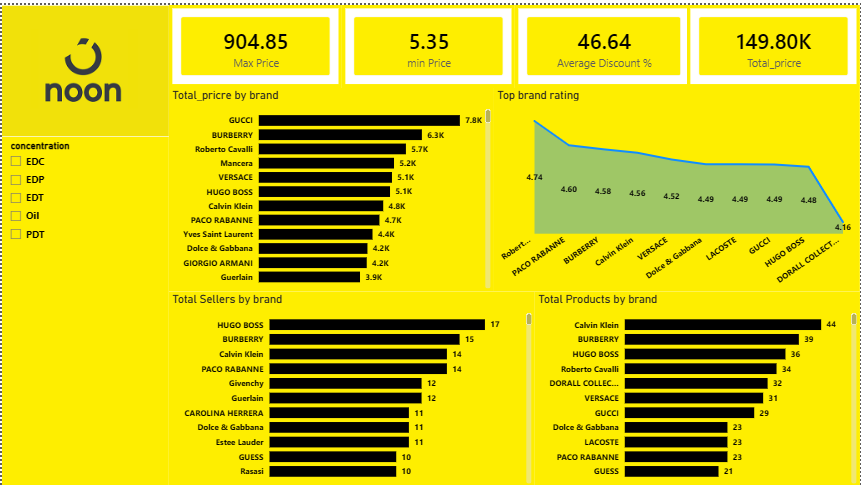

The page's visual inventory and layout, read from the dashboard file:
{"tool":"powerbi","page":{"name":"brands","canvas":[1280,720],"ordinal":1},"visuals":[{"type":"image","box":[0,0,249.3,197],"z":0},{"type":"cardVisual","fields":{"Data":["noon_perfumes_clean.Max Price"]},"box":[249.3,0,258.2,123.9],"z":1000},{"type":"cardVisual","fields":{"Data":["noon_perfumes_clean.min Price"]},"box":[507.5,0,258.2,123.9],"z":2000},{"type":"cardVisual","fields":{"Data":["noon_perfumes_clean.Average Discount %"]},"box":[765.7,0,265.7,123.9],"z":3000},{"type":"cardVisual","fields":{"Data":["noon_perfumes_clean.Total_pricre"]},"box":[1022.4,0,258.2,123.9],"z":4000},{"type":"clusteredBarChart","fields":{"Category":["noon_perfumes_clean.brand"],"Y":["noon_perfumes_clean.Total_pricre"]},"box":[249.3,123.9,485.1,304.5],"z":5000},{"type":"stackedAreaChart","title":"Top brand rating","fields":{"Category":["noon_perfumes_clean.brand"],"Y":["noon_perfumes_clean.Average Rating"]},"box":[734.3,123.9,546.3,304.5],"z":6000},{"type":"clusteredBarChart","fields":{"Category":["noon_perfumes_clean.brand"],"Y":["noon_perfumes_clean.Total Products"]},"box":[795.5,428.4,485.1,291],"z":8000},{"type":"clusteredBarChart","fields":{"Category":["noon_perfumes_clean.brand"],"Y":["noon_perfumes_clean.Total Sellers"]},"box":[249.3,428.4,546.3,291],"z":9000},{"type":"slicer","fields":{"Values":["noon_perfumes_clean.brand"]},"box":[0,197.3,249.1,521.3],"z":9001}]}

Visuals, with their boxes in screenshot pixels (x1, y1, x2, y2), scaled from the page's 1280x720 canvas onto the 861x485 screenshot:
image: {"left": 0, "top": 0, "right": 168, "bottom": 133}
cardVisual - noon_perfumes_clean.Max Price: {"left": 168, "top": 0, "right": 341, "bottom": 83}
cardVisual - noon_perfumes_clean.min Price: {"left": 341, "top": 0, "right": 515, "bottom": 83}
cardVisual - noon_perfumes_clean.Average Discount %: {"left": 515, "top": 0, "right": 694, "bottom": 83}
cardVisual - noon_perfumes_clean.Total_pricre: {"left": 688, "top": 0, "right": 860, "bottom": 83}
clusteredBarChart - noon_perfumes_clean.brand x noon_perfumes_clean.Total_pricre: {"left": 168, "top": 83, "right": 494, "bottom": 289}
"Top brand rating" stackedAreaChart: {"left": 494, "top": 83, "right": 860, "bottom": 289}
clusteredBarChart - noon_perfumes_clean.brand x noon_perfumes_clean.Total Products: {"left": 535, "top": 289, "right": 860, "bottom": 484}
clusteredBarChart - noon_perfumes_clean.brand x noon_perfumes_clean.Total Sellers: {"left": 168, "top": 289, "right": 535, "bottom": 484}
slicer - noon_perfumes_clean.brand: {"left": 0, "top": 133, "right": 168, "bottom": 484}
